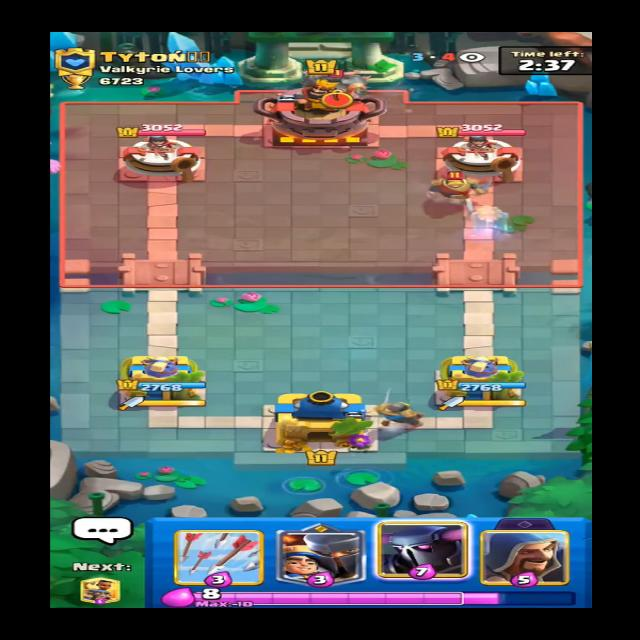knight: (421, 167, 496, 204)
pekka: (299, 63, 380, 98)
